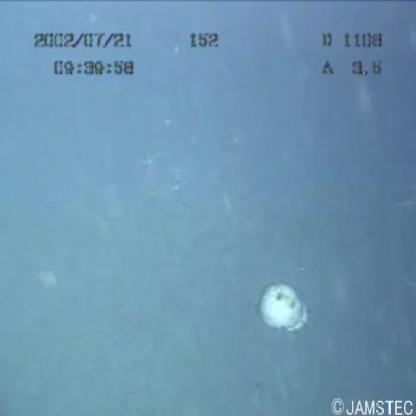Rác: (246, 267, 316, 340)
